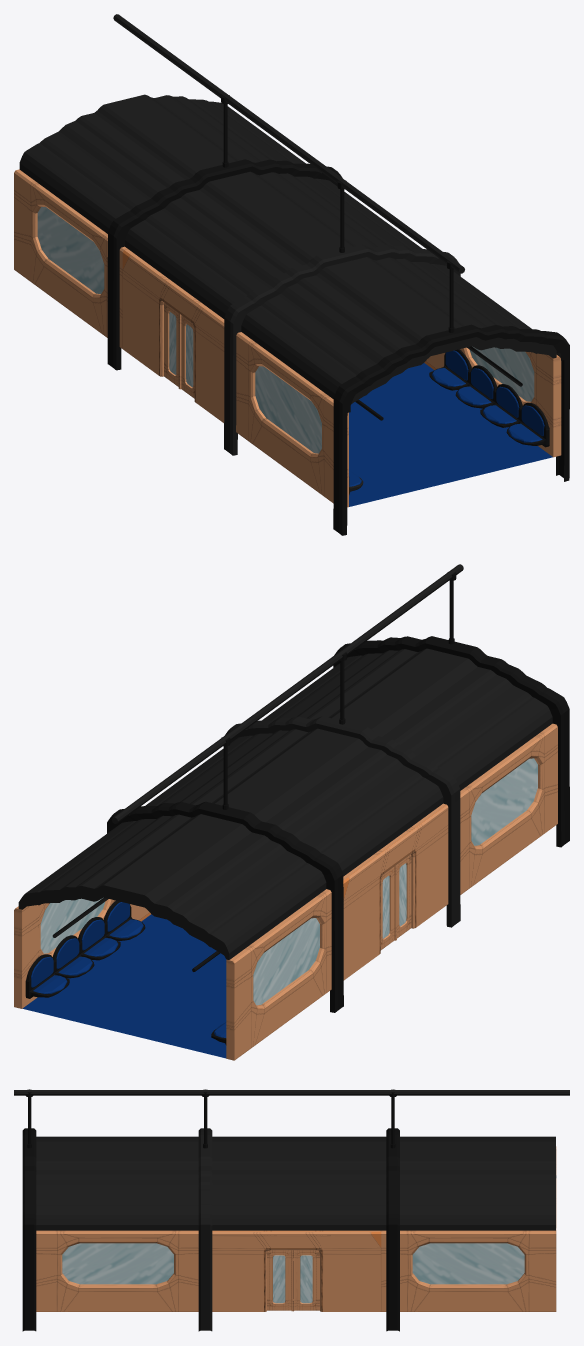
File: VagaoAnimado.obj
3 renders of one model, top to bottom at view 1: azimuth 30°, elevation 25°; view 2: azimuth 150°, elevation 25°; view 3: azimuth 270°, elevation 25°, orthographic. The views are drawn at different scales.
Parts seen in each view (by area): view 1: Teto_Cube.013, Plane.002_Plane.011, Vagao_Porta.002_Cube.007, Vagao_Janela.006_Cube.014, Vagao_Janela.004_Cube.012, Divisória.001_Cube.016, Divisória_Cube.015, Cylinder.005_Cylinder.011, Janela_P.006_Plane.006, Janela_P.007_Plane.007, Vagao_Janela.001_Cube.043, Janela_P.002_Plane.014 (+4 smaller); view 2: Teto_Cube.013, Plane.002_Plane.011, Vagao_Porta.002_Cube.007, Vagao_Janela.004_Cube.012, Vagao_Janela.006_Cube.014, Divisória_Cube.015, Divisória.001_Cube.016, Cylinder.005_Cylinder.011, Janela_P.007_Plane.007, Janela_P.006_Plane.006, Vagao_Janela.005_Cube.004, Janela_P.005_Plane.001 (+4 smaller); view 3: Teto_Cube.013, Vagao_Porta_Cube.001, Vagao_Janela.001_Cube.043, Vagao_Janela.005_Cube.004, Janela_P.005_Plane.001, Janela_P.002_Plane.014, Cylinder.005_Cylinder.011, Divisória.001_Cube.016, Divisória_Cube.015, Porta_E.002_Cube.005, Porta_E_Cube.002, Janela_E_Plane (+1 smaller).
Part boxes in pixels (x1=…): Teto_Cube.013: x1=19, y1=94, x2=556, y2=455; Plane.002_Plane.011: x1=349, y1=363, x2=552, y2=506; Vagao_Porta.002_Cube.007: x1=122, y1=249, x2=224, y2=422; Vagao_Janela.006_Cube.014: x1=236, y1=332, x2=348, y2=507; Vagao_Janela.004_Cube.012: x1=14, y1=169, x2=127, y2=348; Divisória.001_Cube.016: x1=333, y1=324, x2=569, y2=535; Divisória_Cube.015: x1=107, y1=159, x2=342, y2=370; Cylinder.005_Cylinder.011: x1=113, y1=14, x2=464, y2=273; Janela_P.006_Plane.006: x1=37, y1=206, x2=104, y2=293; Janela_P.007_Plane.007: x1=255, y1=366, x2=321, y2=453; Vagao_Janela.001_Cube.043: x1=444, y1=347, x2=561, y2=457; Janela_P.002_Plane.014: x1=470, y1=346, x2=534, y2=401; Teto_Cube.013: x1=18, y1=648, x2=552, y2=959; Plane.002_Plane.011: x1=22, y1=914, x2=226, y2=1058; Vagao_Porta.002_Cube.007: x1=343, y1=803, x2=448, y2=980; Vagao_Janela.004_Cube.012: x1=226, y1=889, x2=331, y2=1060; Vagao_Janela.006_Cube.014: x1=460, y1=723, x2=557, y2=894; Divisória_Cube.015: x1=107, y1=801, x2=343, y2=1012; Divisória.001_Cube.016: x1=333, y1=636, x2=569, y2=847; Cylinder.005_Cylinder.011: x1=112, y1=564, x2=463, y2=823; Janela_P.007_Plane.007: x1=471, y1=758, x2=537, y2=845; Janela_P.006_Plane.006: x1=253, y1=918, x2=319, y2=1005; Vagao_Janela.005_Cube.004: x1=14, y1=899, x2=131, y2=1008; Janela_P.005_Plane.001: x1=40, y1=897, x2=104, y2=953; Teto_Cube.013: x1=36, y1=1128, x2=555, y2=1331; Vagao_Porta_Cube.001: x1=212, y1=1230, x2=381, y2=1311; Vagao_Janela.001_Cube.043: x1=36, y1=1230, x2=198, y2=1311; Vagao_Janela.005_Cube.004: x1=381, y1=1229, x2=556, y2=1311; Janela_P.005_Plane.001: x1=412, y1=1243, x2=524, y2=1284; Janela_P.002_Plane.014: x1=62, y1=1243, x2=173, y2=1284; Cylinder.005_Cylinder.011: x1=14, y1=1090, x2=569, y2=1095; Divisória.001_Cube.016: x1=22, y1=1128, x2=36, y2=1331; Divisória_Cube.015: x1=386, y1=1128, x2=399, y2=1331; Porta_E.002_Cube.005: x1=293, y1=1250, x2=319, y2=1311; Porta_E_Cube.002: x1=267, y1=1250, x2=292, y2=1311; Janela_E_Plane: x1=273, y1=1255, x2=285, y2=1303.
Bounding box in the file's own units: 7.28 × 7.4 × 18.88.
